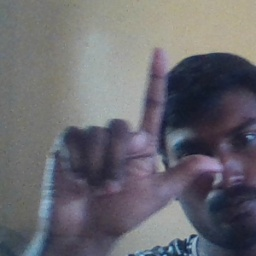L: (37, 47, 219, 240)
